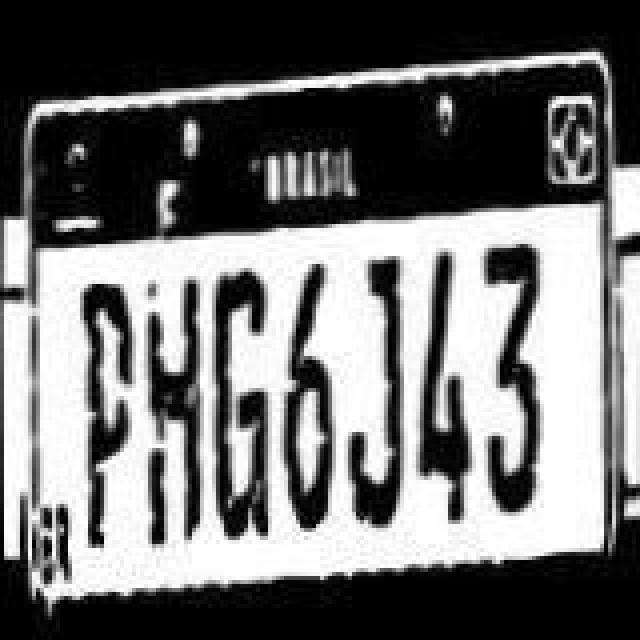3: (478, 236, 546, 524)
4: (416, 250, 472, 522)
6: (276, 250, 332, 534)
G: (208, 268, 272, 544)
H: (142, 274, 202, 554)
J: (344, 238, 408, 546)
P: (74, 272, 134, 552)
